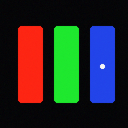0 point: (100, 64, 104, 68)
